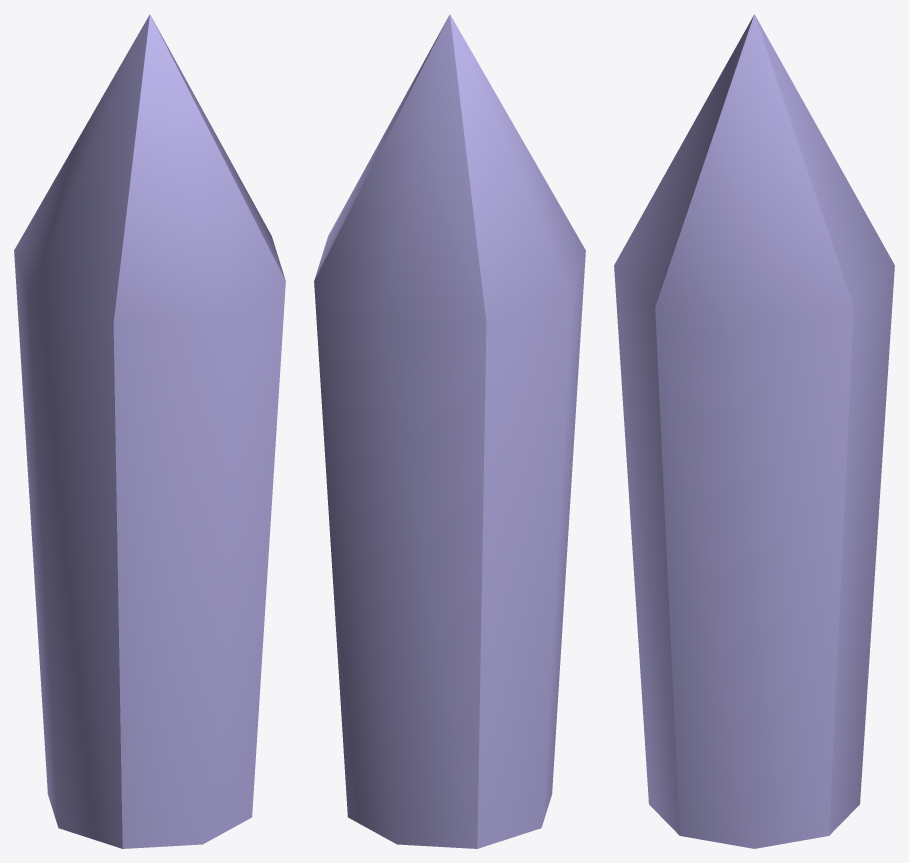
Rendered from crystal.glb.
3 renders of one model, left to right at view 1: azimuth 30°, elevation 25°; view 2: azimuth 150°, elevation 25°; view 3: azimuth 270°, elevation 25°, orthographic.
Visible parts, largest first — view 1: pCube1; view 2: pCube1; view 3: pCube1.
Boxes of the visible parts, bbox=[...] form: pCube1: bbox=[14, 14, 285, 848]; pCube1: bbox=[314, 14, 585, 848]; pCube1: bbox=[614, 14, 894, 848].
Size of the model in its own units: 1.33 by 4.13 by 1.33.
